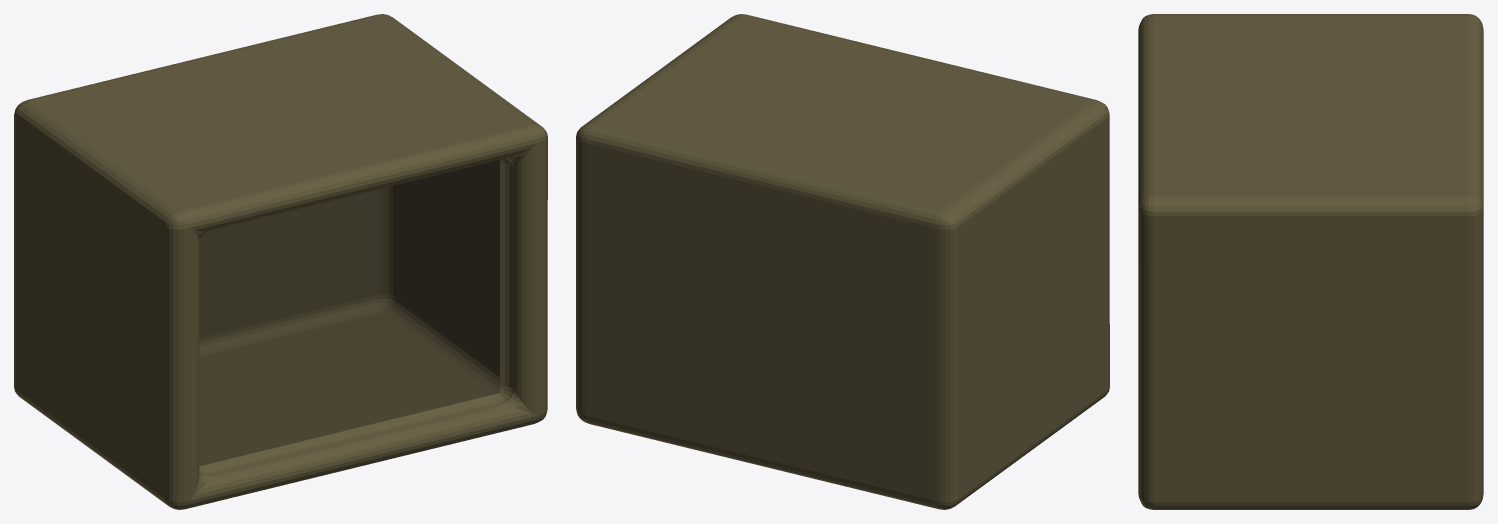
Rendered from MonitorV3.glb.
3 views of the same model, side by side, from view 1: azimuth 30°, elevation 25°; view 2: azimuth 150°, elevation 25°; view 3: azimuth 270°, elevation 25° (orthographic). The views are drawn at different scales.
Visible parts, largest first — view 1: Cube; view 2: Cube; view 3: Cube.
Boxes of the visible parts, x1,y1,x2,y2 form: Cube: (14,14,547,509); Cube: (576,14,1109,509); Cube: (1138,14,1483,509).
Size of the model in its own units: 2.67 by 2 by 2.
